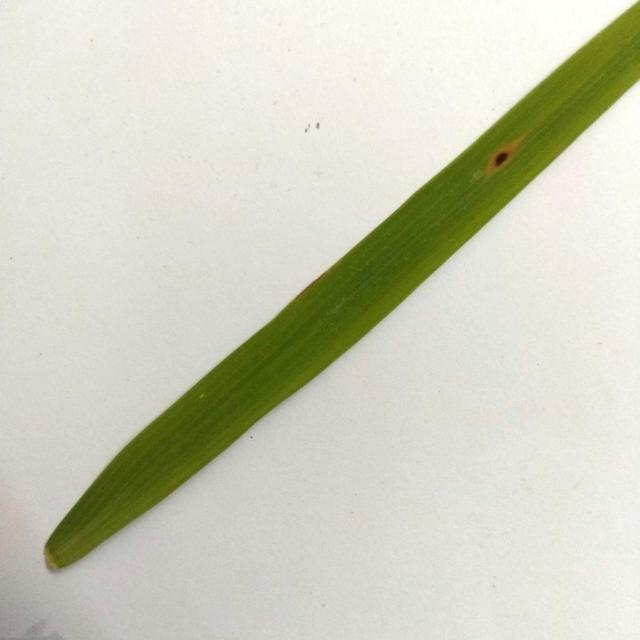Brown spot: (483, 138, 524, 179)
